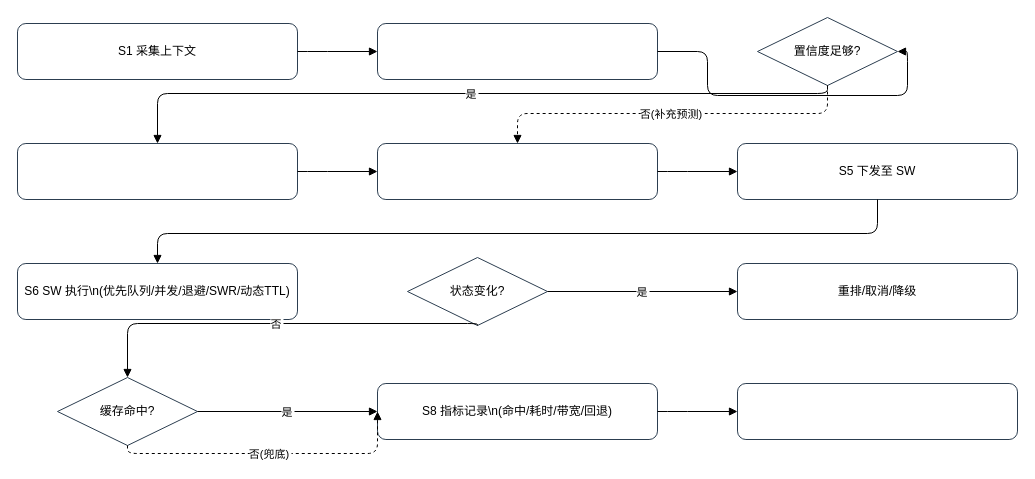
This 1035x479 diagram has some shape labels left out. Each missing label, with the box of its shape:
S2 大模型预测: (376, 22, 658, 80)
S3 建模约束\n(带宽/CPU/存储/隐私/权限): (16, 142, 298, 200)
S4 预算求解/生成计划: (376, 142, 658, 200)
S9 反事实评估/校准\n(阈值/预算): (736, 382, 1018, 440)
